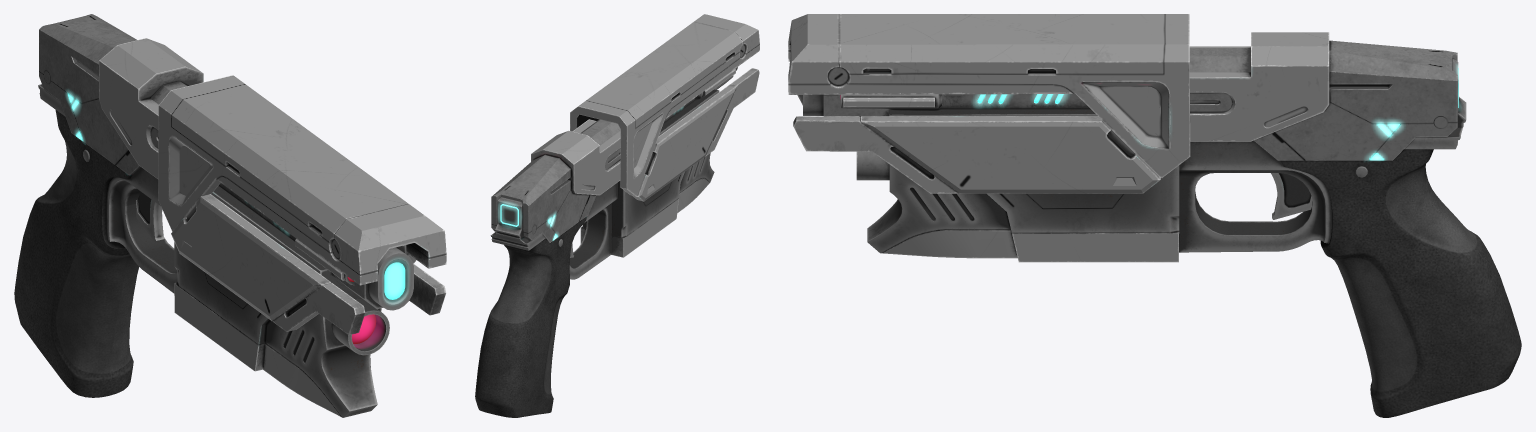
Rendered from Pistol.fbx.
3 renders of one model, left to right at view 1: azimuth 30°, elevation 25°; view 2: azimuth 150°, elevation 25°; view 3: azimuth 270°, elevation 25°, orthographic. The views are drawn at different scales.
Visible parts, largest first — view 1: frame, sliderTop, sliderBot, trigger; view 2: frame, sliderTop, sliderBot; view 3: frame, sliderTop, sliderBot, trigger.
Boxes of the visible parts, x1,y1,x2,y2 form: frame: (14,14,416,417); sliderTop: (158,75,446,285); sliderBot: (171,194,445,334); trigger: (136,191,164,242); frame: (475,67,737,417); sliderTop: (570,14,759,196); sliderBot: (632,68,759,201); frame: (803,32,1521,417); sliderTop: (788,14,1190,177); sliderBot: (793,95,1160,193); trigger: (1271,173,1312,219).
Size of the model in its own units: 3.74 by 14.47 by 25.35.
